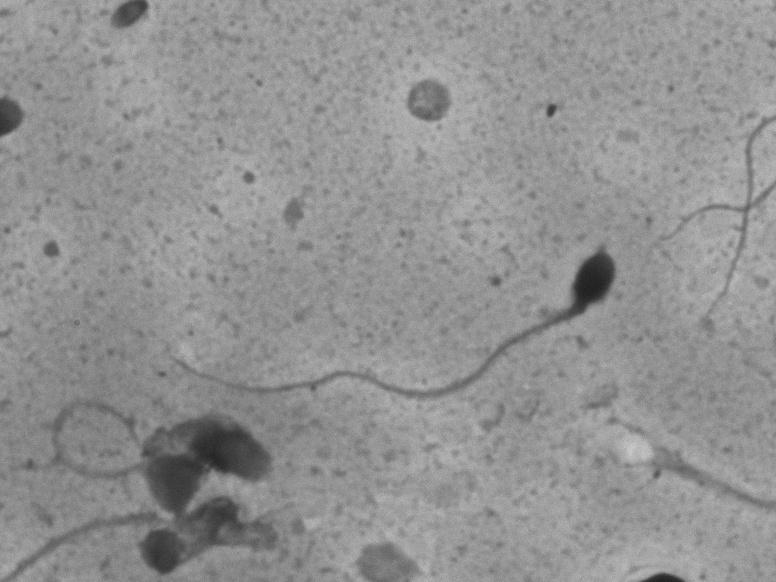Normal: (156, 240, 627, 405)
